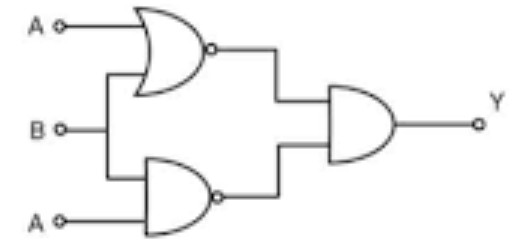and gate: (324, 78, 402, 172)
nand gate: (142, 154, 229, 240)
nor gate: (129, 4, 225, 99)
